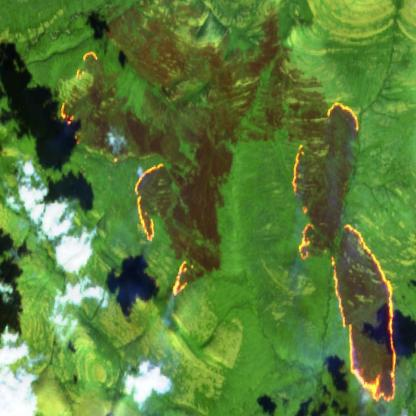fire: (288, 96, 416, 416), (121, 154, 215, 313), (58, 43, 104, 148)
